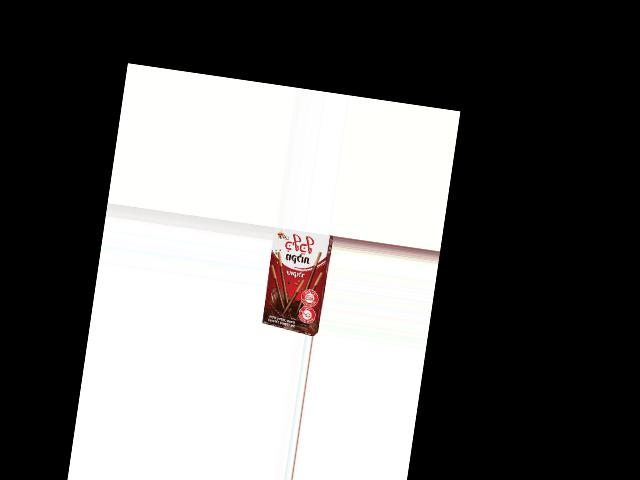chocolate: (260, 227, 332, 330)
